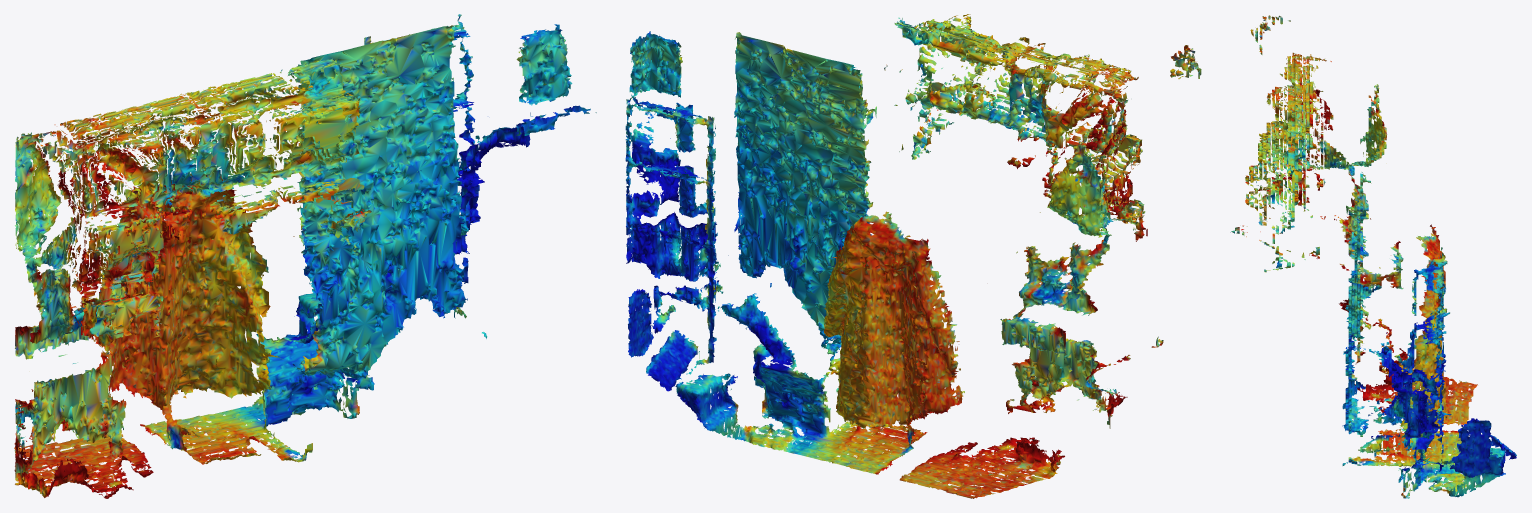
The model's file is mesh_iter_0001.obj.
3 renders of one model, left to right at view 1: azimuth 30°, elevation 25°; view 2: azimuth 150°, elevation 25°; view 3: azimuth 270°, elevation 25°, orthographic. The views are drawn at different scales.
Size of the model in its own units: 3.04 by 2.14 by 1.64.
